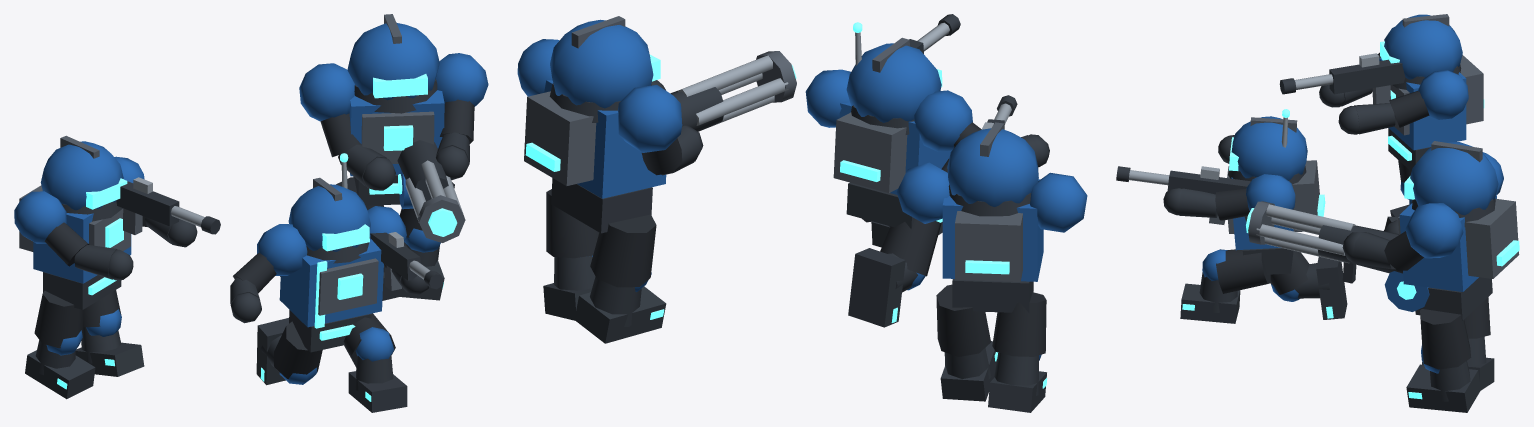
File: infantry-squad.glb
3 views of the same model, side by side, from view 1: azimuth 30°, elevation 25°; view 2: azimuth 150°, elevation 25°; view 3: azimuth 270°, elevation 25° (orthographic). The views are drawn at different scales.
Parts seen in each view (by area): view 1: trooper_2_knee_l, trooper_2_shin_l, trooper_2_thigh_l, trooper_2_chest_plate, trooper_2_boot_glow_l, trooper_2_cannon_tube_0; view 2: trooper_2_knee_l, trooper_2_shin_l, trooper_2_chest_plate, trooper_2_thigh_l, trooper_2_cannon_tube_0, trooper_2_boot_glow_l; view 3: trooper_2_knee_l, trooper_2_shin_l, trooper_2_thigh_l, trooper_2_chest_plate, trooper_2_cannon_tube_0, trooper_2_boot_glow_l.
Part boxes in pixels (x1,y1,x2,y2): trooper_2_knee_l: (14, 22, 488, 384); trooper_2_shin_l: (25, 79, 469, 412); trooper_2_thigh_l: (34, 99, 474, 379); trooper_2_chest_plate: (19, 14, 465, 315); trooper_2_boot_glow_l: (57, 74, 457, 401); trooper_2_cannon_tube_0: (133, 160, 463, 279); trooper_2_knee_l: (517, 19, 1087, 360); trooper_2_shin_l: (543, 14, 1049, 412); trooper_2_chest_plate: (524, 16, 1022, 281); trooper_2_thigh_l: (546, 122, 1046, 356); trooper_2_cannon_tube_0: (678, 22, 1011, 129); trooper_2_boot_glow_l: (525, 22, 1047, 388); trooper_2_knee_l: (1202, 14, 1503, 373); trooper_2_shin_l: (1116, 59, 1495, 412); trooper_2_thigh_l: (1215, 52, 1490, 369); trooper_2_chest_plate: (1209, 14, 1519, 278); trooper_2_cannon_tube_0: (1128, 53, 1379, 263); trooper_2_boot_glow_l: (1182, 41, 1519, 399).
Bounding box in the file's own units: 3.43 × 1.8 × 2.62.
